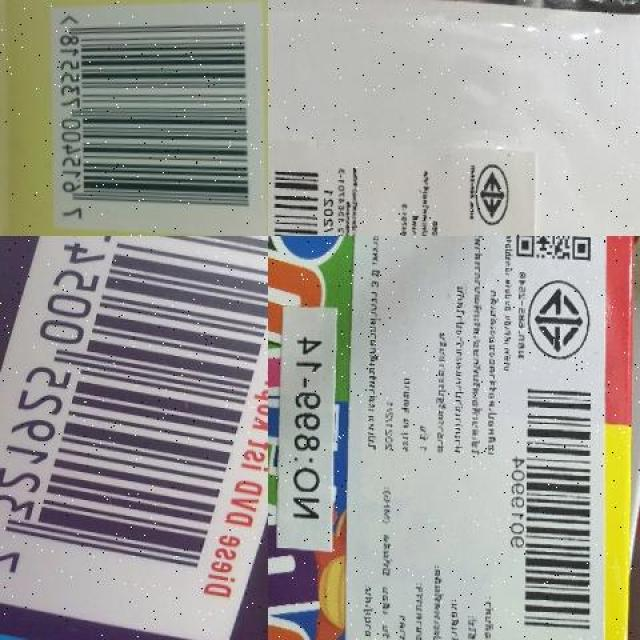Barcode: (0, 236, 268, 640), (50, 0, 266, 232), (508, 368, 599, 640), (268, 149, 324, 236)
